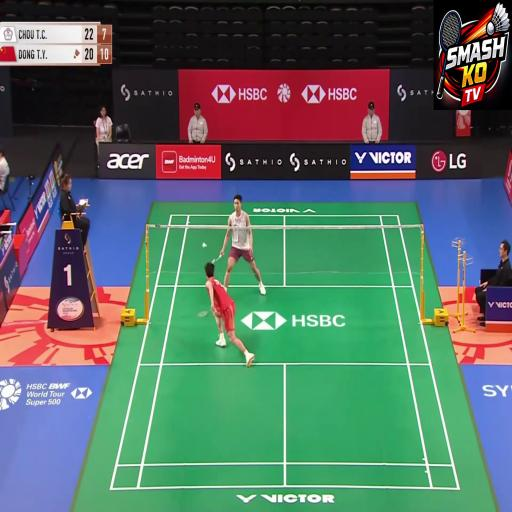player: (196, 267, 252, 382), (224, 190, 263, 299)
